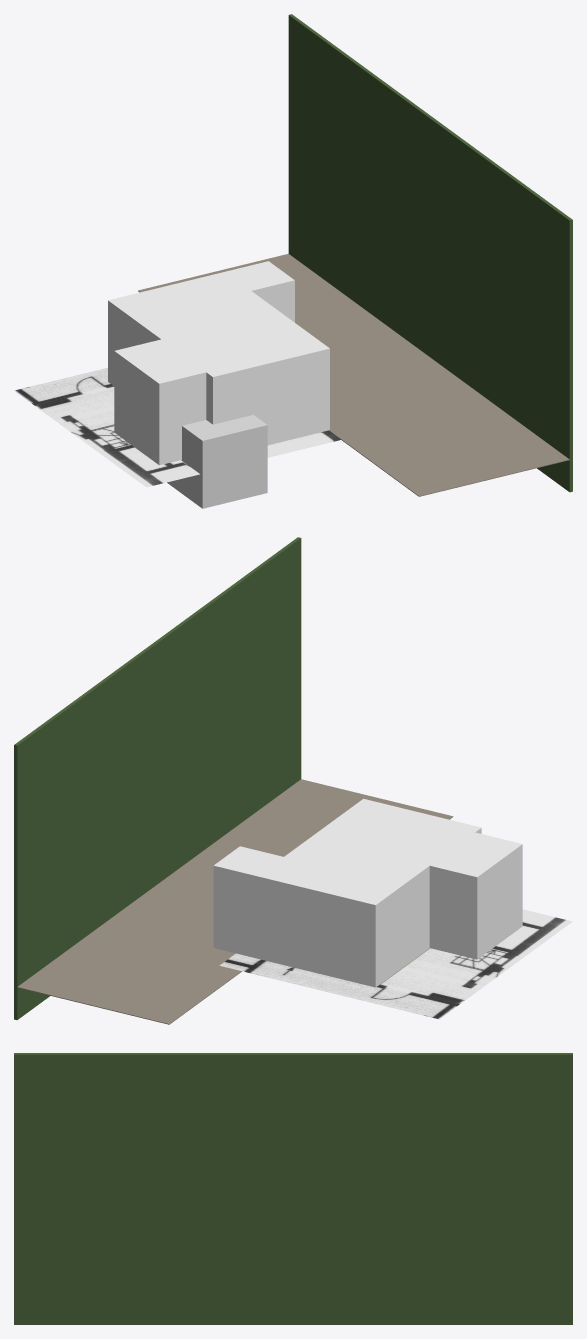
Rendered from kitchen_previous.glb.
The picture shows the model from 3 angles, top to bottom: view 1: azimuth 30°, elevation 25°; view 2: azimuth 150°, elevation 25°; view 3: azimuth 270°, elevation 25°; orthographic projection.
Visible parts, largest first — view 1: KIT_Dresser, KIT_Ceiling, Cube; view 2: KIT_Dresser, KIT_Ceiling; view 3: KIT_Dresser.
Boxes of the visible parts, x1=… form: KIT_Dresser: x1=14, y1=14, x2=572, y2=496; KIT_Ceiling: x1=108, y1=272, x2=329, y2=380; Cube: x1=167, y1=415, x2=267, y2=508; KIT_Dresser: x1=14, y1=537, x2=572, y2=1024; KIT_Ceiling: x1=257, y1=798, x2=481, y2=908; KIT_Dresser: x1=14, y1=1053, x2=572, y2=1324.
Bounding box in the file's own units: 10.77 × 8 × 15.
Materials: 44 (4 with a texture image).
